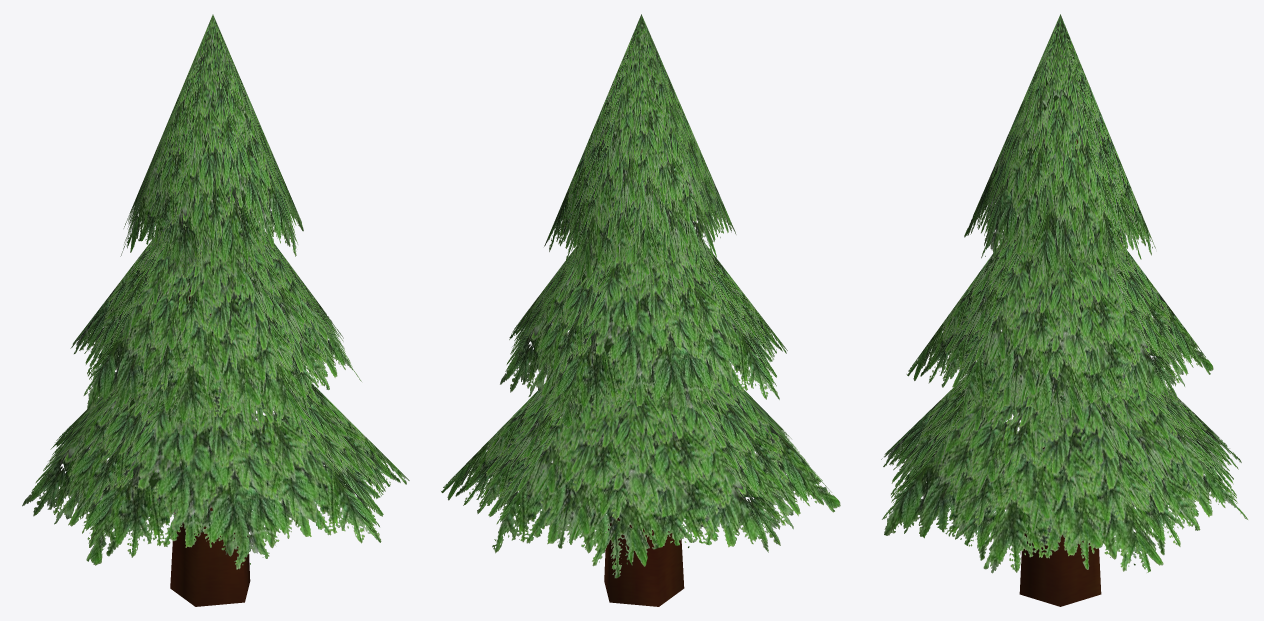
The model's file is tree.fbx.
3 views of the same model, side by side, from view 1: azimuth 30°, elevation 25°; view 2: azimuth 150°, elevation 25°; view 3: azimuth 270°, elevation 25° (orthographic).
Visible parts, largest first — view 1: pCone4; view 2: pCone4; view 3: pCone4.
Boxes of the visible parts, x1,y1,x2,y2 form: pCone4: (22, 14, 409, 606); pCone4: (441, 14, 840, 606); pCone4: (881, 14, 1247, 606).
Size of the model in its own units: 1.91 by 3.19 by 1.91.
